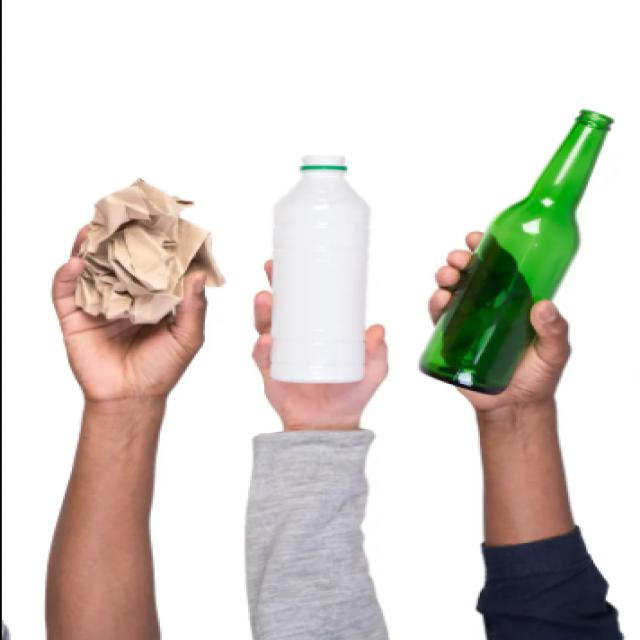paper: (81, 184, 239, 334)
plastic: (267, 166, 406, 387)
